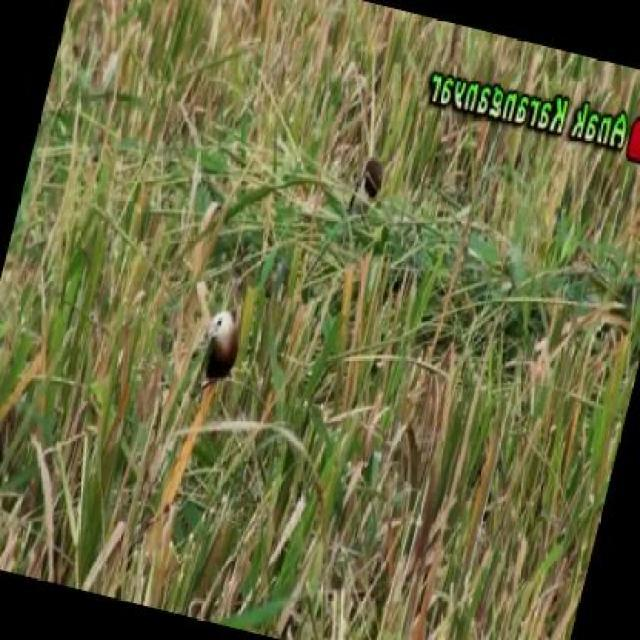Bird: (196, 296, 239, 404), (354, 157, 392, 198)
